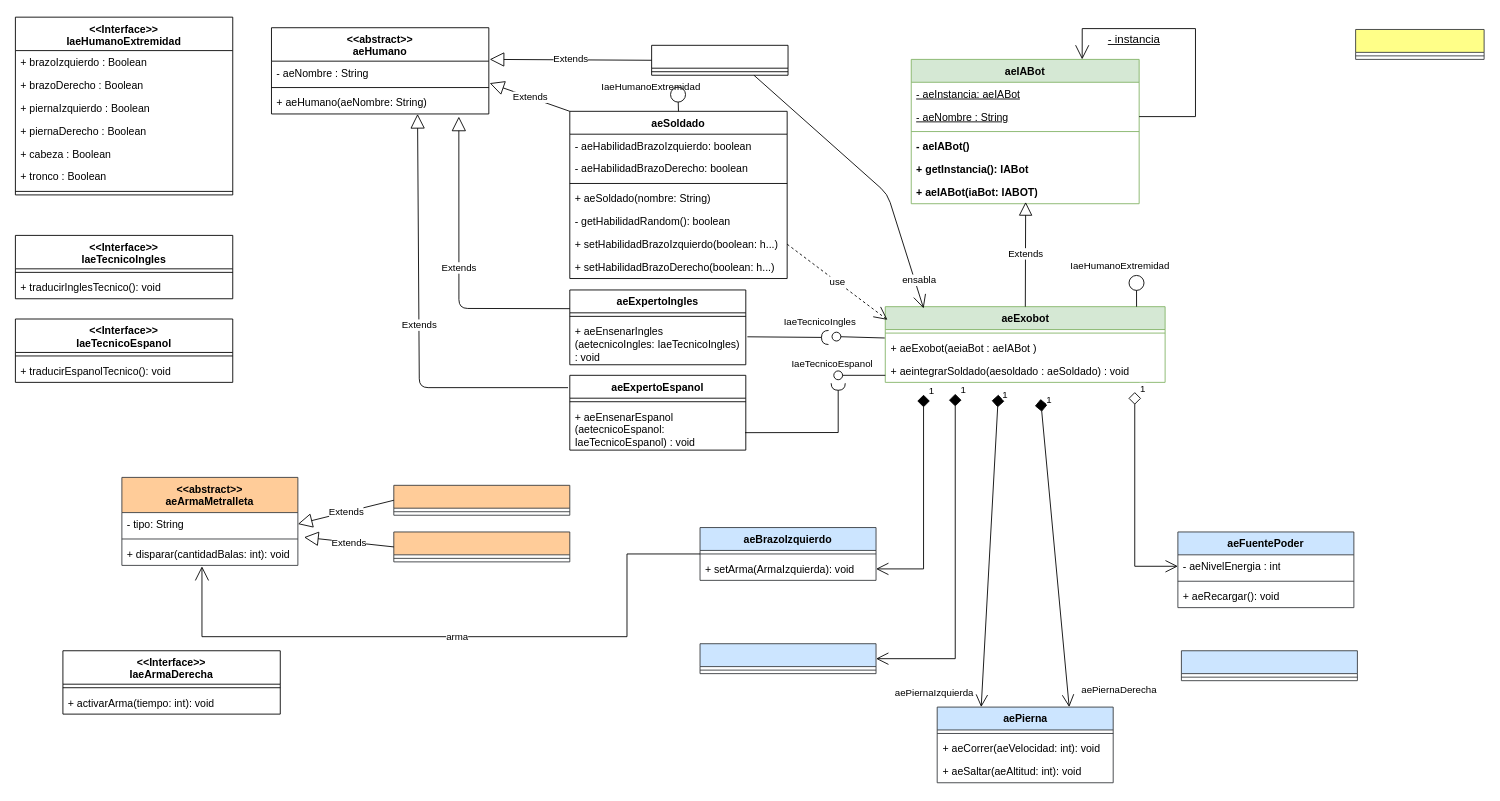
Image size: 1500x801. Some labels were removed from this diagram. Each missing label, with the centre of its shape:
"aeArmaBazuca" goes at (481,546).
"aeArmaMetralleta" goes at (481,499).
"aeBrazoDerecho" goes at (787,658).
"aeMecatronico" goes at (719,59).
"aeTurboReactor" goes at (1269,665).
"Whiterun" goes at (1419,44).
